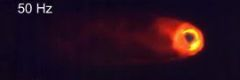keyhole: (183, 31, 199, 46)
